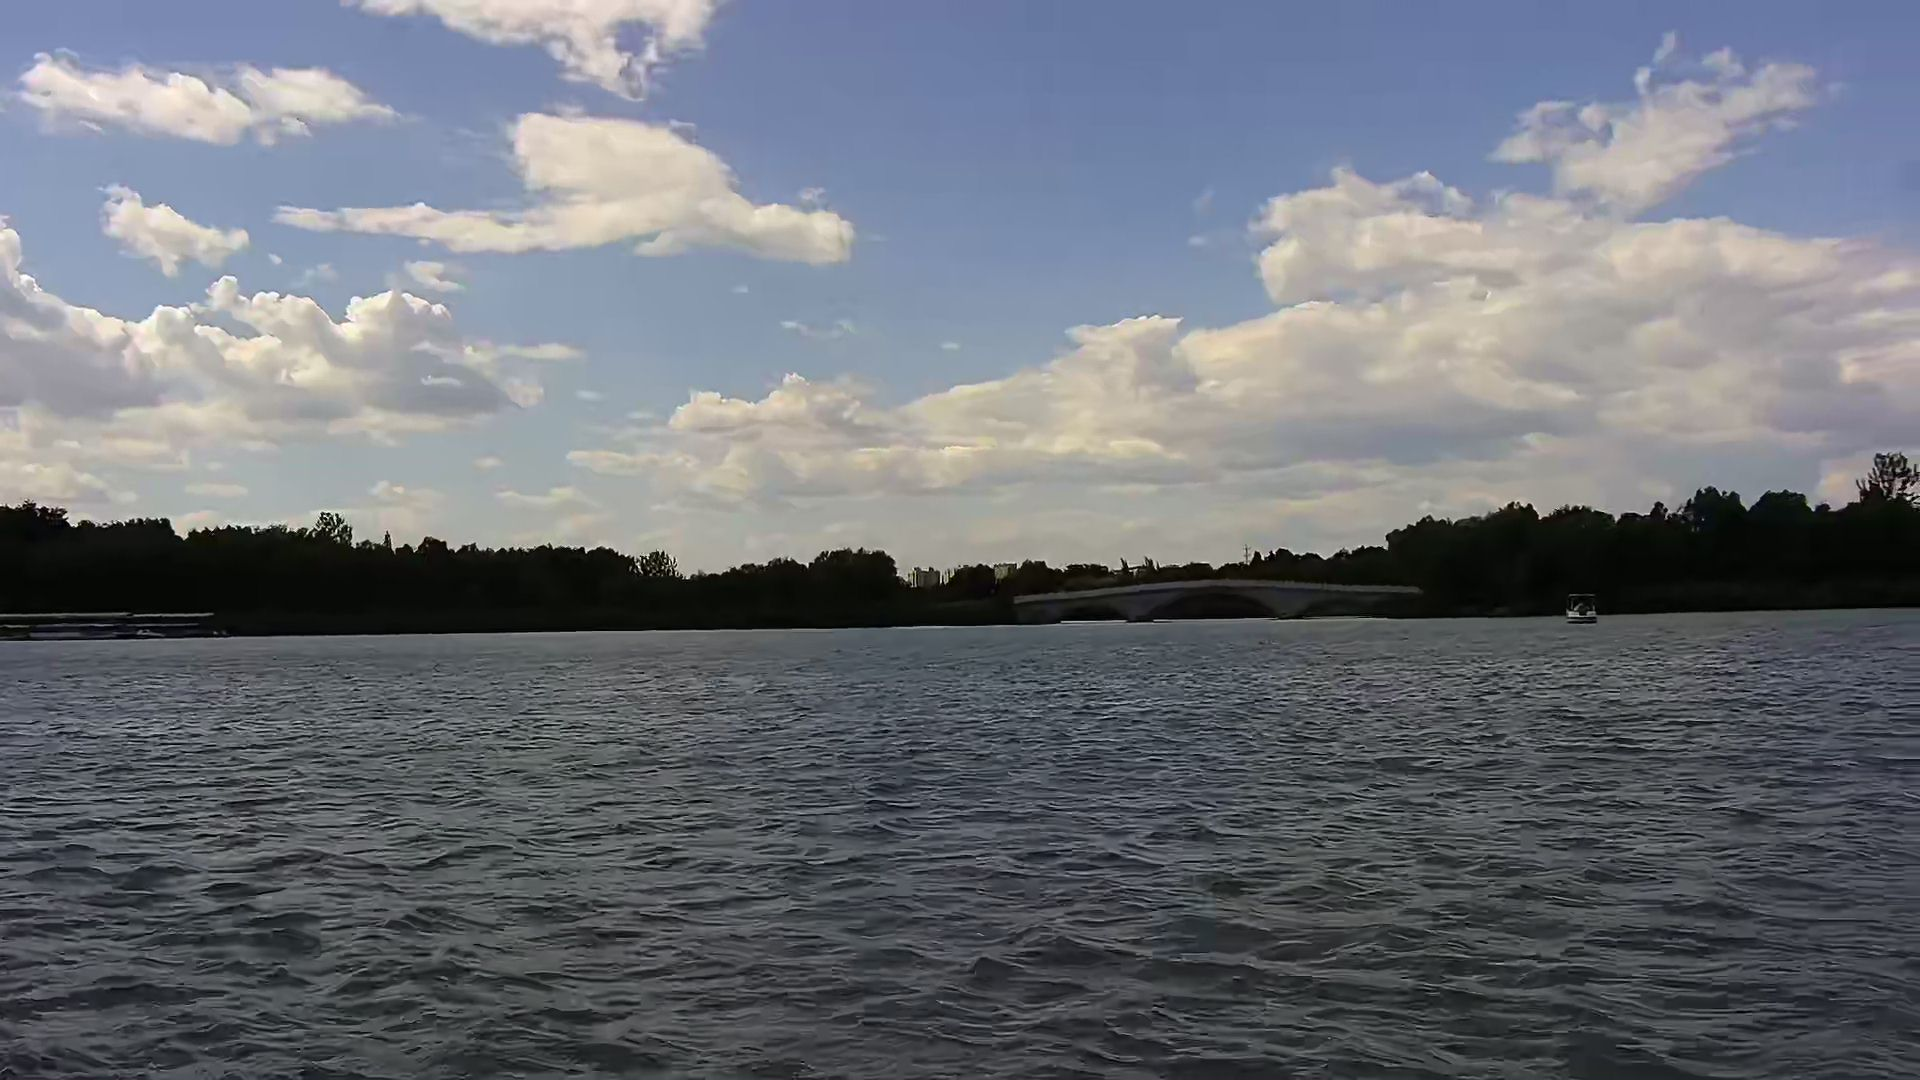boat: (1565, 579, 1613, 629)
bridge: (1011, 574, 1437, 626)
